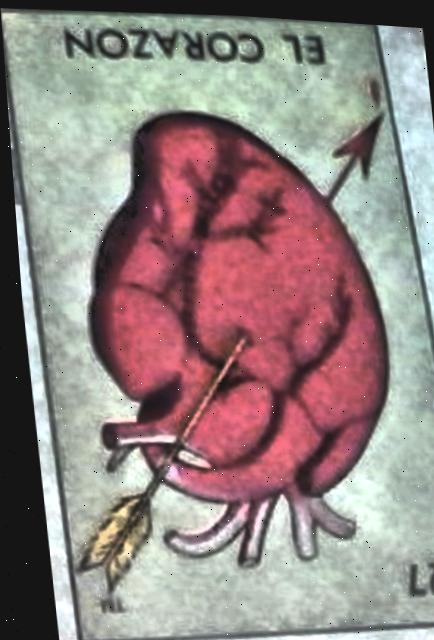El Corazon: (1, 12, 434, 640)
